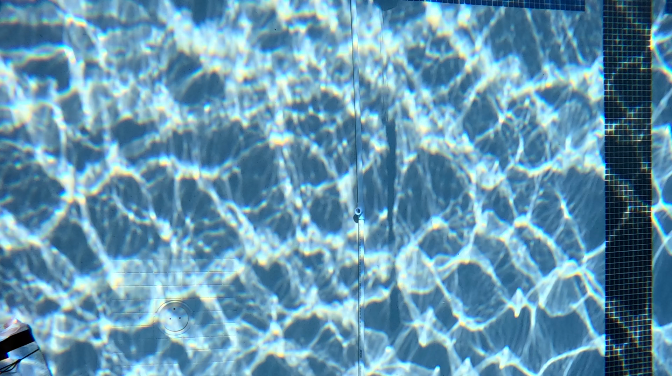sandbag: (0, 320, 50, 375)
